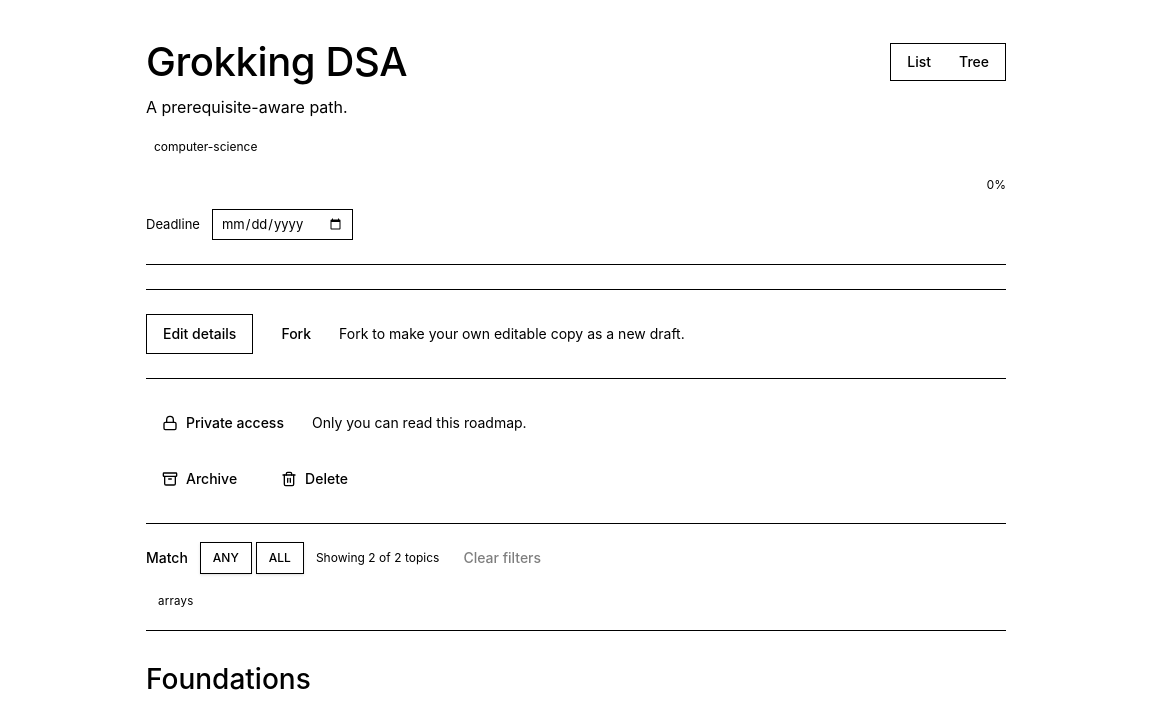
RoadmapView deadline countdown › surfaces the ochre re-read prompt when a deadline write is stale (409)
Type "2026-12-01" into the date field named "Deadline" at (282, 224), box [212,209,353,240]
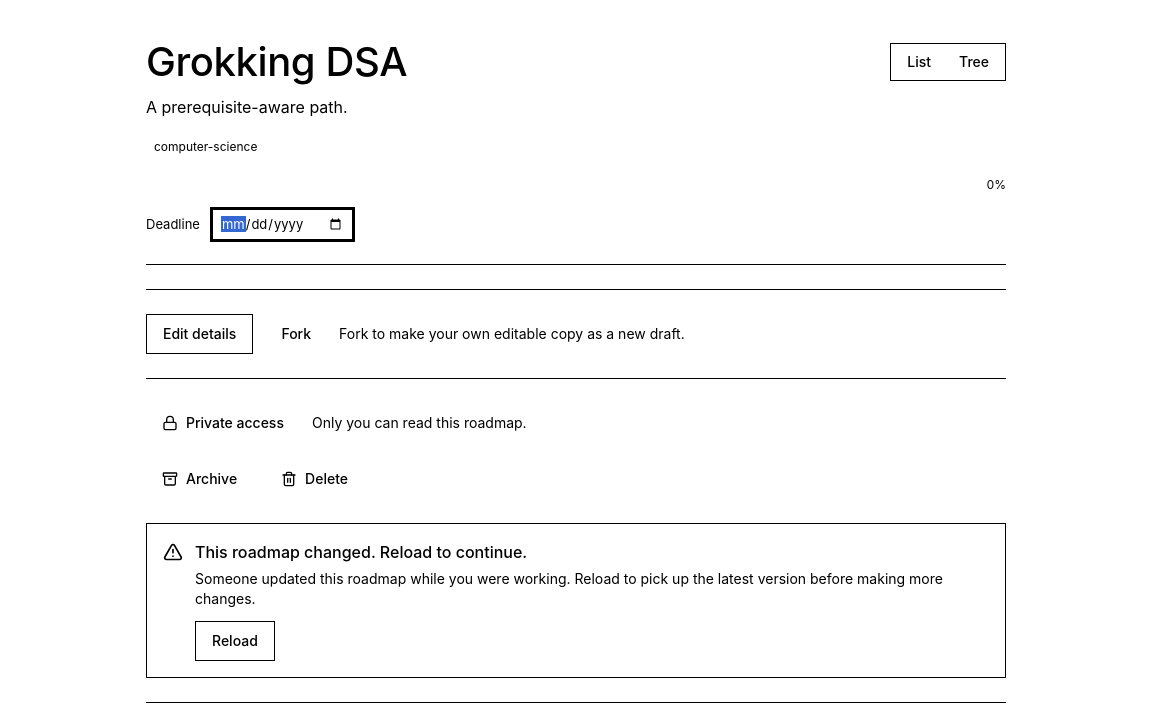
Expected: the message shows "Reload to continue", [195,542,527,562]
